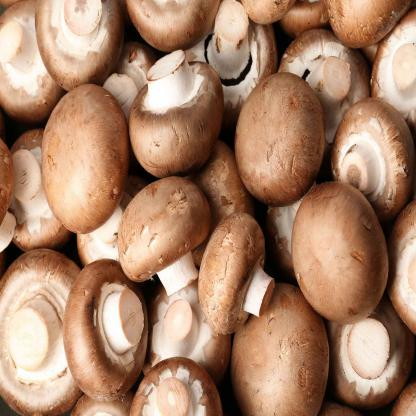mushroom: (0, 246, 90, 416), (40, 84, 142, 230), (291, 182, 387, 328), (232, 284, 329, 416), (178, 0, 279, 119), (230, 74, 322, 204), (129, 49, 224, 174), (63, 262, 148, 394), (276, 31, 370, 150), (116, 172, 208, 290), (334, 98, 412, 219), (198, 214, 274, 336), (0, 126, 74, 250), (0, 0, 68, 124), (33, 0, 121, 93), (126, 357, 223, 415)
